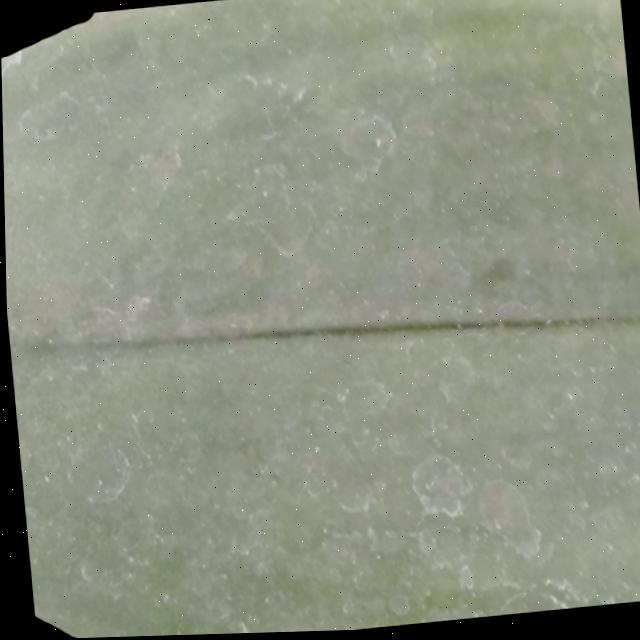mite: (448, 234, 539, 324), (489, 589, 565, 618), (481, 260, 516, 289), (382, 593, 411, 622)
